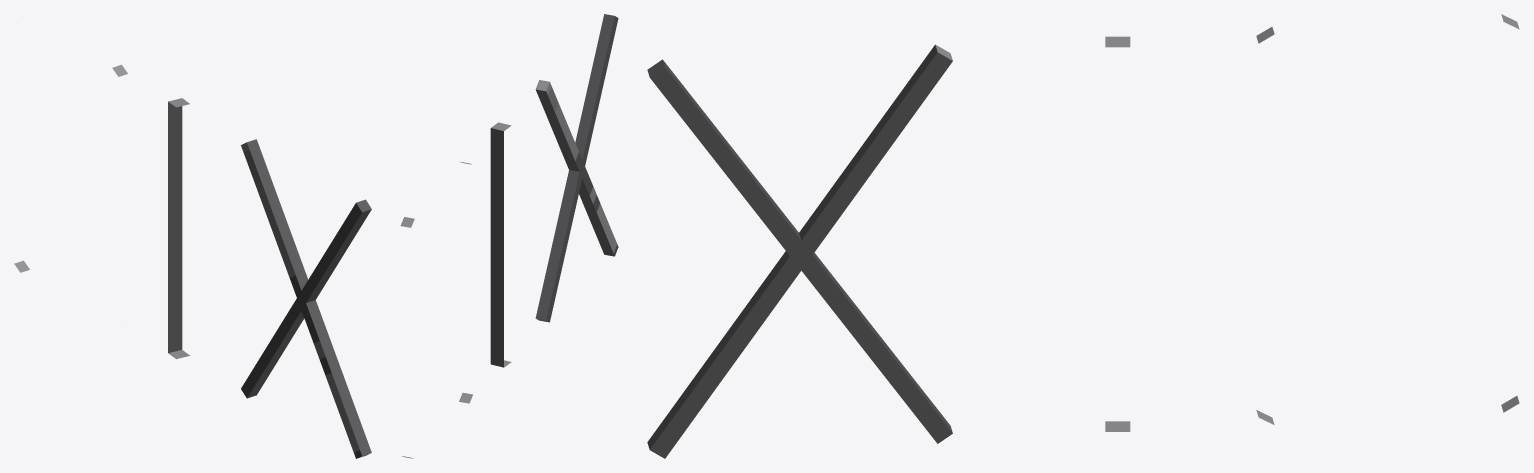
The picture shows the model from 3 angles, left to right: view 1: azimuth 30°, elevation 25°; view 2: azimuth 150°, elevation 25°; view 3: azimuth 270°, elevation 25°; orthographic projection. The views are drawn at different scales.
Bounding box in the file's own units: 0.3139 × 1.04 × 2.09.
